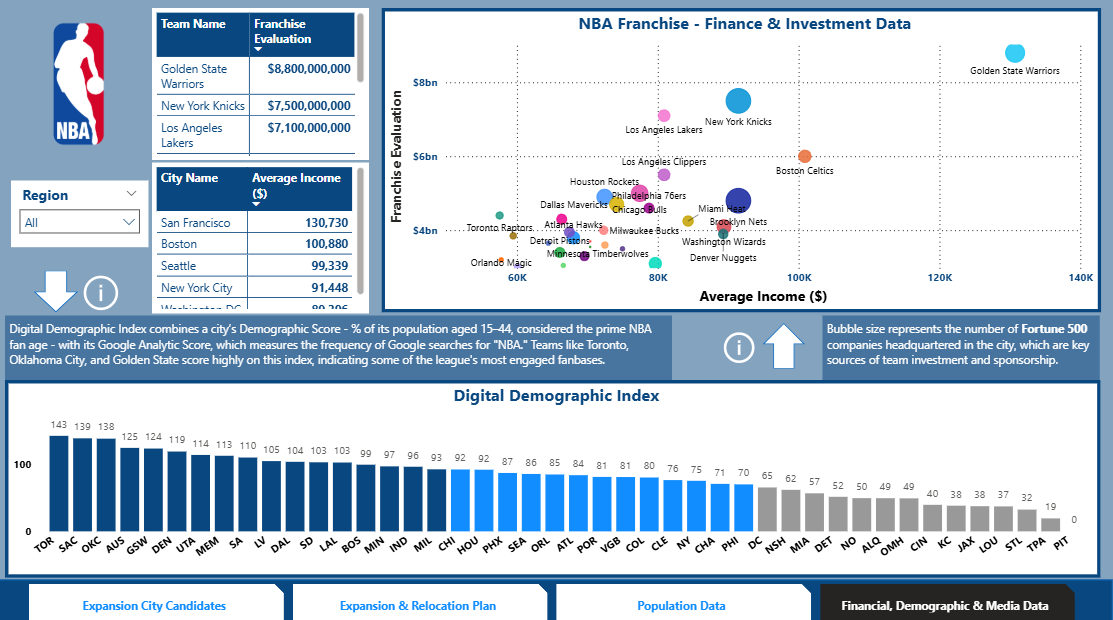

Layout of this report page (visuals, bound fields, positions):
{"tool":"powerbi","page":{"name":"Financial, Demographic & Media Data","canvas":[1280,720],"ordinal":3},"visuals":[{"type":"shape","title":"Navigation Bar","box":[0,666.4,1280,53.9],"z":0},{"type":"image","title":"NBA Logo","box":[6.8,10.7,169.2,175.1],"z":1000},{"type":"scatterChart","title":"NBA Franchise - Finance & Investment Data","fields":{"Category":["NBA Teams Data.Team Name"],"Series":["NBA Teams Data.City ID"],"Size":["Sum(NBA Teams Data.Fortune 500 HQ's)"],"X":["Sum(NBA Teams Data.Per Capita Personal Income (2023))"],"Y":["Sum(NBA Teams Data.Franchise Value (Prior to 24/25 NBA season))"]},"box":[439,10,827,350],"z":2000},{"type":"pivotTable","fields":{"Rows":["NBA Teams Data.Team Name"],"Values":["Sum(NBA Teams Data.Franchise Value (Prior to 24/25 NBA season))"]},"box":[176.1,10,249.2,174.5],"z":3000},{"type":"clusteredColumnChart","title":"Digital Demographic Index","fields":{"Category":["All Cities WCS.City ID"],"Y":["Measure Table.Youthful Score - Demographic + Google Trend"]},"box":[6.6,438.7,1259.5,227.6],"z":4000},{"type":"pivotTable","fields":{"Rows":["All Cities WCS.City Name"],"Values":["Sum(All Cities WCS.Per Capita Personal Income (2023))"]},"box":[176.1,187.8,249.2,172.8],"z":5000},{"type":"slicer","fields":{"Values":["NBA Teams Data.Region"]},"box":[13.3,209.4,157.9,76.4],"z":6000},{"type":"actionButton","box":[91.4,312.4,53.2,51.5],"z":7000},{"type":"shape","box":[39.9,312.4,51.5,48.2],"z":8000},{"type":"textbox","box":[6.4,364.3,766.7,74.5],"z":9000},{"type":"textbox","box":[946.6,364.3,318.9,74.5],"z":10000},{"type":"actionButton","box":[827.6,377.9,50,46.3],"z":11000},{"type":"shape","box":[877.6,371.6,49.1,52.7],"z":12000},{"type":"pageNavigator","box":[35,673,1203,42],"z":13000}]}

Visuals, with their boxes in screenshot pixels (x1, y1, x2, y2), scaled from the page's 1280x720 canvas onto the 1113x620 screenshot:
"Navigation Bar" shape: [0,574,1112,619]
"NBA Logo" image: [6,9,153,160]
"NBA Franchise - Finance & Investment Data" scatterChart: [382,9,1101,310]
pivotTable - NBA Teams Data.Team Name x Sum(NBA Teams Data.Franchise Value (Prior to 24/25 NBA season)): [153,9,370,159]
"Digital Demographic Index" clusteredColumnChart: [6,378,1101,574]
pivotTable - All Cities WCS.City Name x Sum(All Cities WCS.Per Capita Personal Income (2023)): [153,162,370,311]
slicer - NBA Teams Data.Region: [12,180,149,246]
actionButton: [79,269,126,313]
shape: [35,269,79,311]
textbox: [6,314,672,378]
textbox: [823,314,1100,378]
actionButton: [720,325,763,365]
shape: [763,320,806,365]
pageNavigator: [30,580,1076,616]
